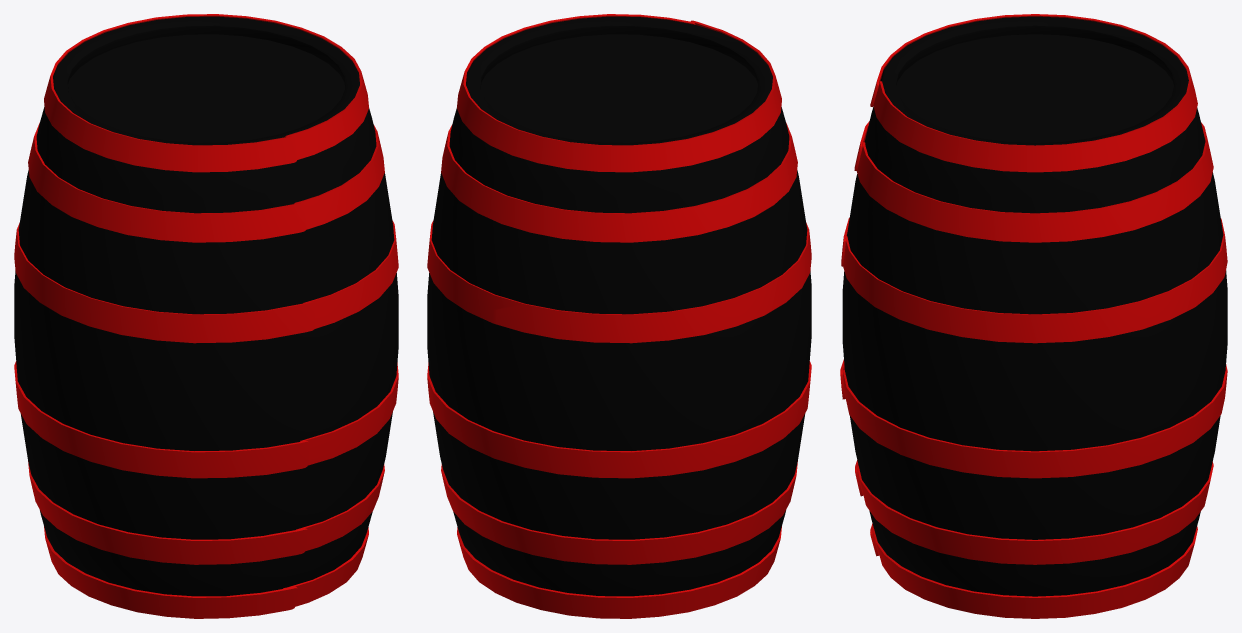
File: SM_Barrel.fbx
The picture shows the model from 3 angles, left to right: view 1: azimuth 30°, elevation 25°; view 2: azimuth 150°, elevation 25°; view 3: azimuth 270°, elevation 25°; orthographic projection.
Visible parts, largest first — view 1: wood_barrel; view 2: wood_barrel; view 3: wood_barrel.
Part boxes in pixels (bbox=[...]): wood_barrel: bbox=[14, 14, 398, 618]; wood_barrel: bbox=[427, 14, 811, 618]; wood_barrel: bbox=[840, 14, 1227, 618].
Size of the model in its own units: 60.09 by 81.48 by 60.47.
